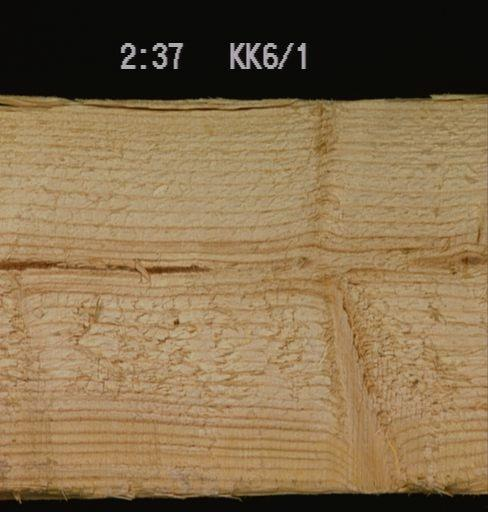split: (0, 98, 303, 116)
